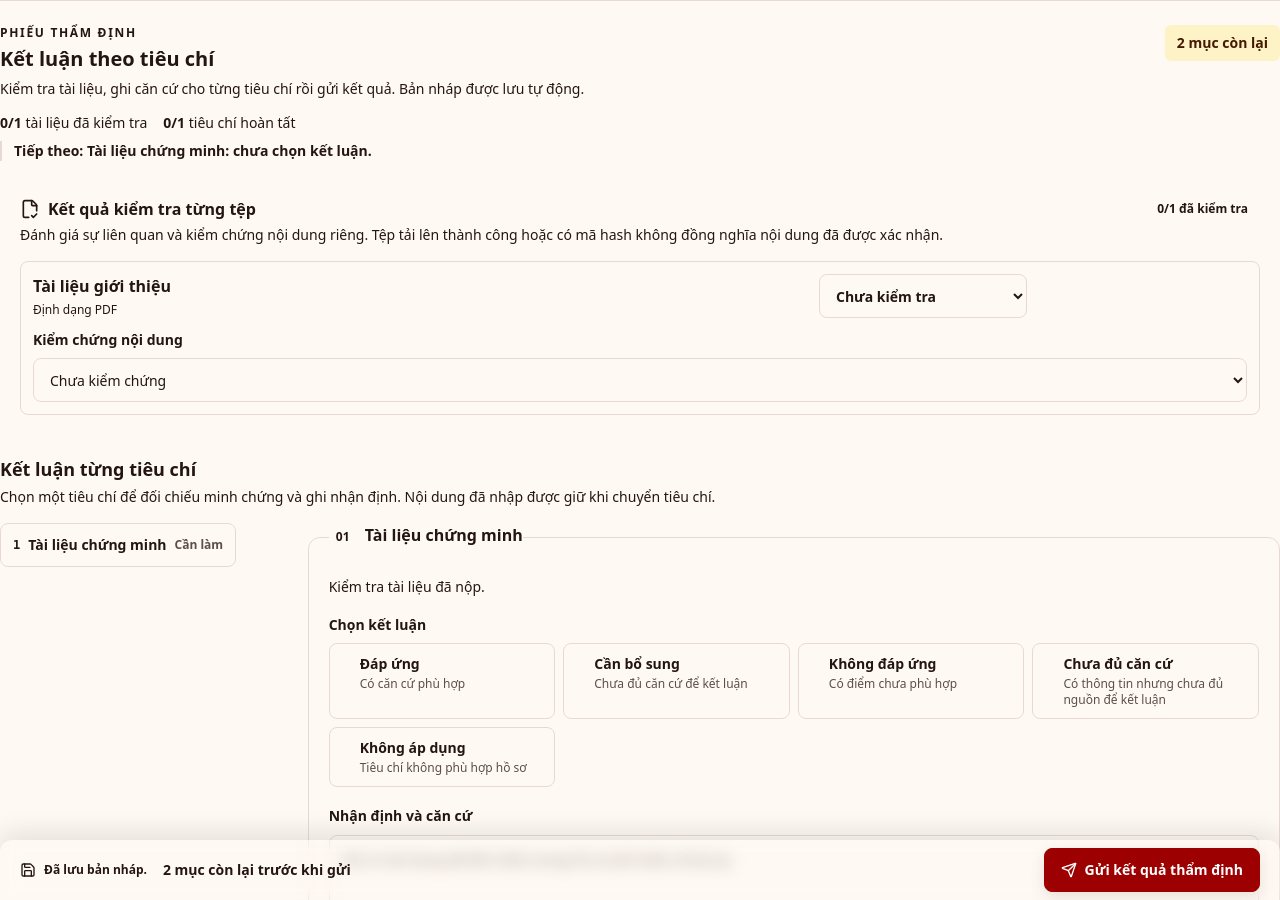
Scenario: FiveTScorecard › derives a supplement result from criterion conclusions
Select "Phù hợp" in the dropdown named "Kết quả kiểm tra Tài liệu giới thiệu" at (923, 296), box [819, 274, 1027, 318]
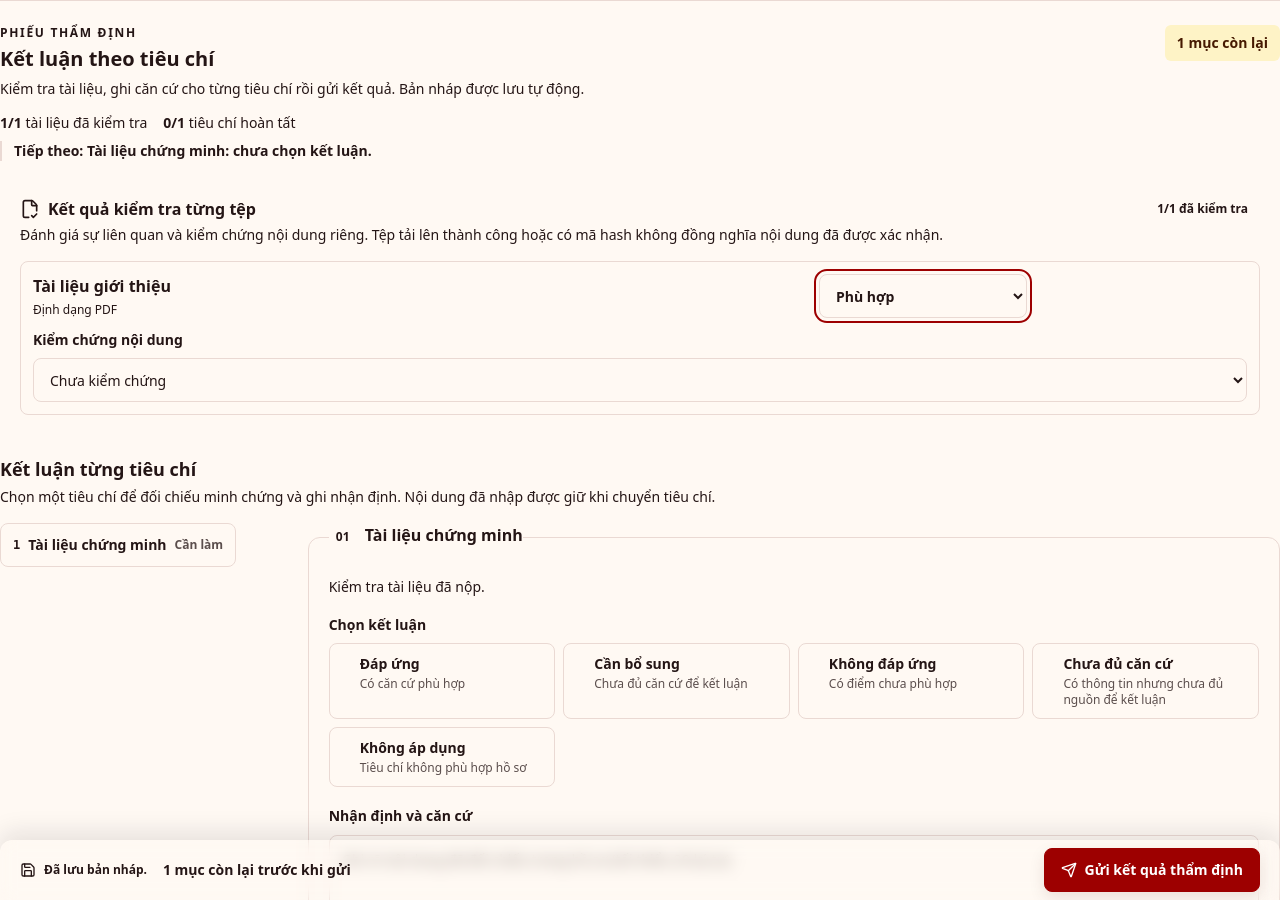
Click the radio button with aria-label "Tài liệu chứng minh: Cần bổ sung".
click(677, 681)  # box [563, 643, 790, 719]
(page scrolled)
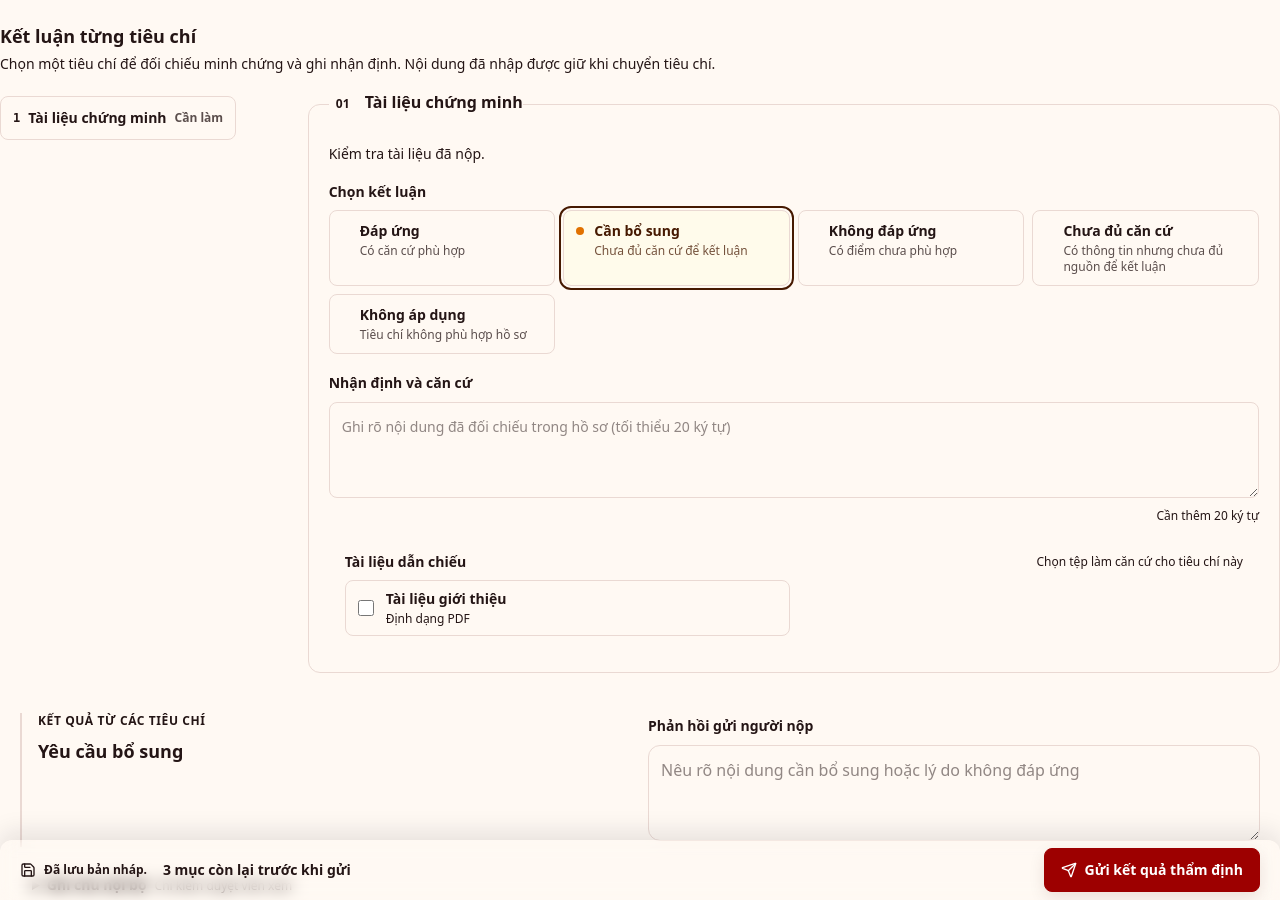
Type "Tài liệu cần bổ sung ngày phát hành để có thể đối chiếu." into the text box named "Nhận định Tài liệu chứng minh".
click(794, 450); type("Tài liệu cần bổ sung ngày phát hành để có thể đối chiếu.")  # box [329, 402, 1259, 498]
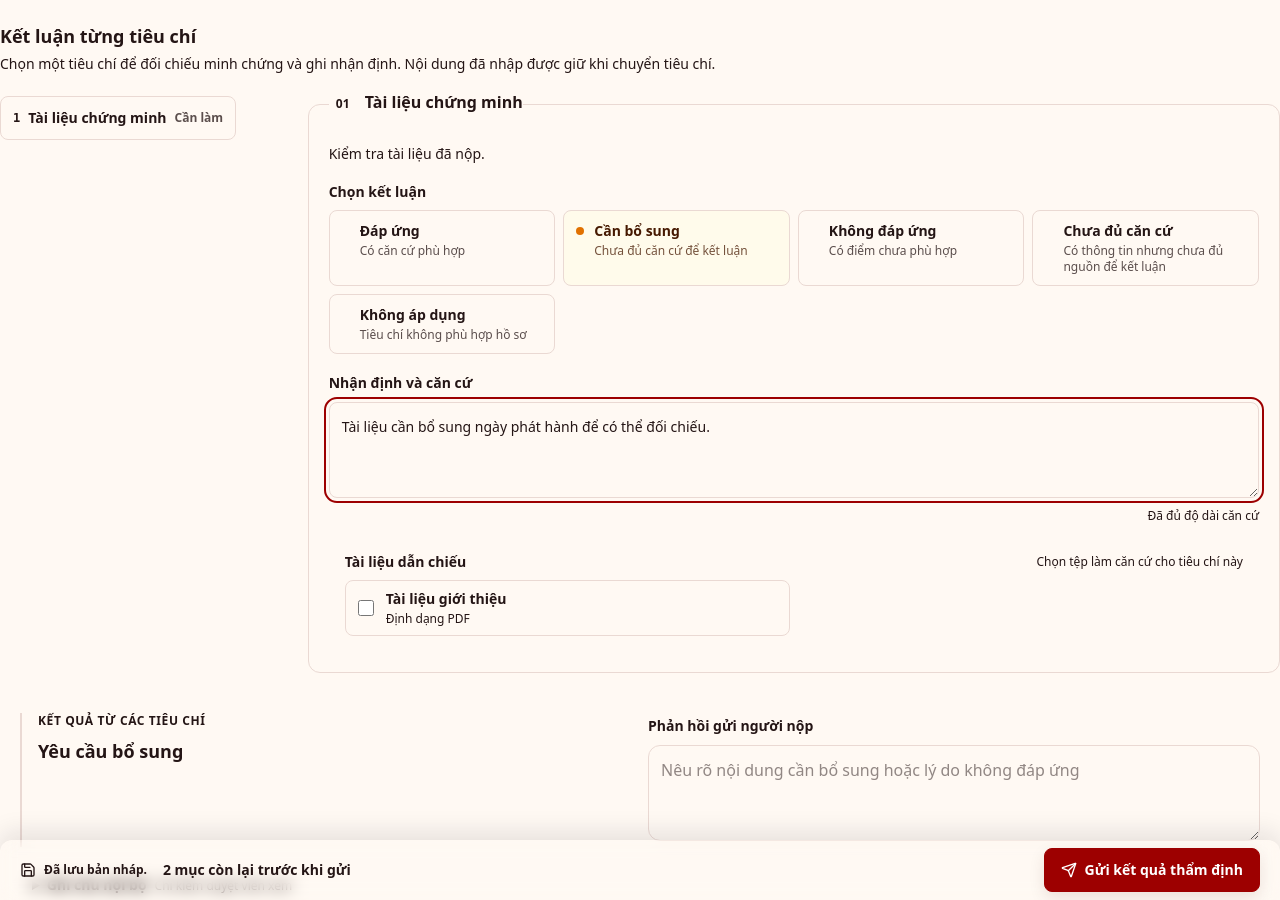
Click the checkbox.
click(366, 608)  # box [358, 600, 374, 616]
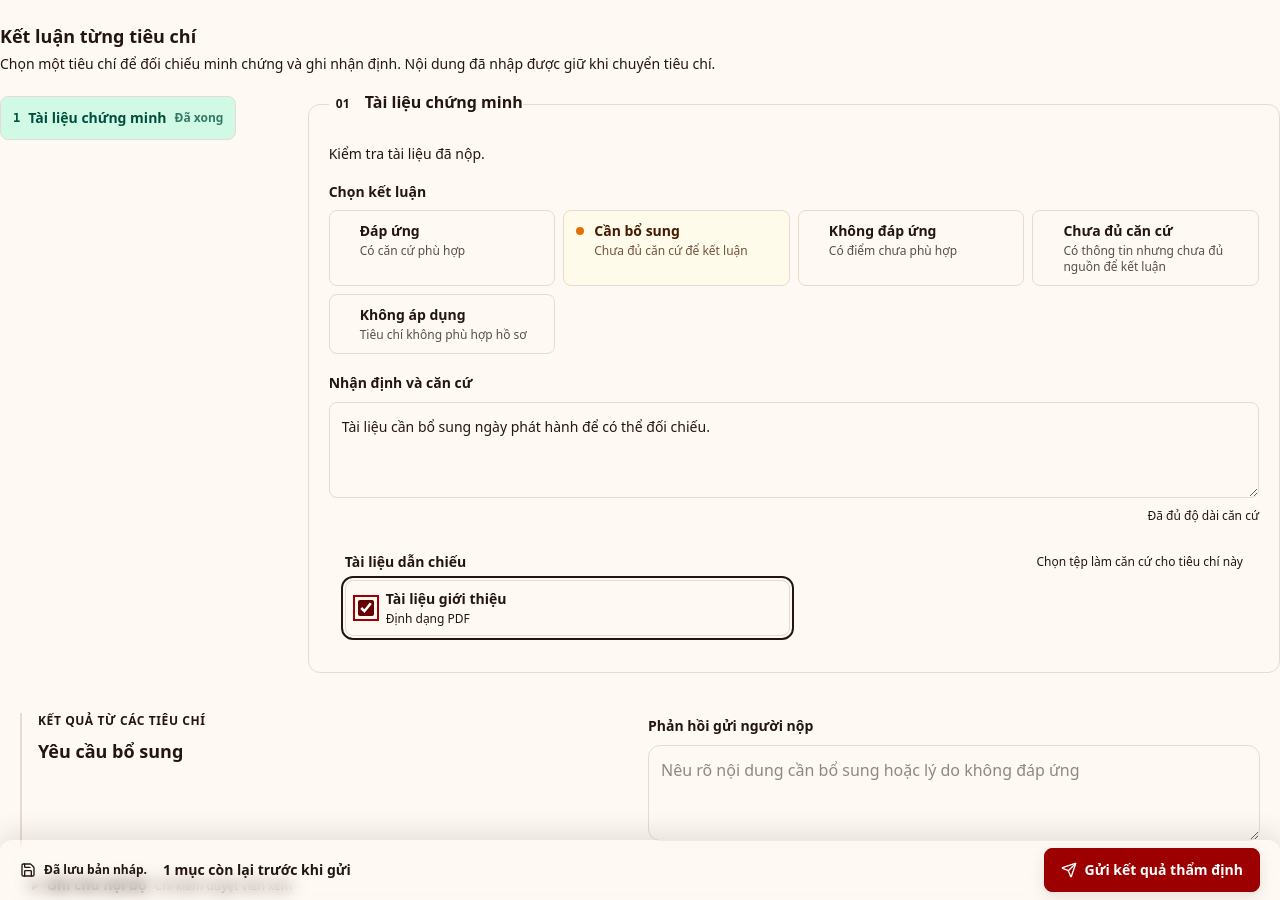
Type "Vui lòng bổ sung ngày phát hành của tài liệu." into the text box labelled "Phản hồi gửi người nộp".
click(954, 793); type("Vui lòng bổ sung ngày phát hành của tài liệu.")  # box [648, 745, 1260, 841]
(page scrolled)
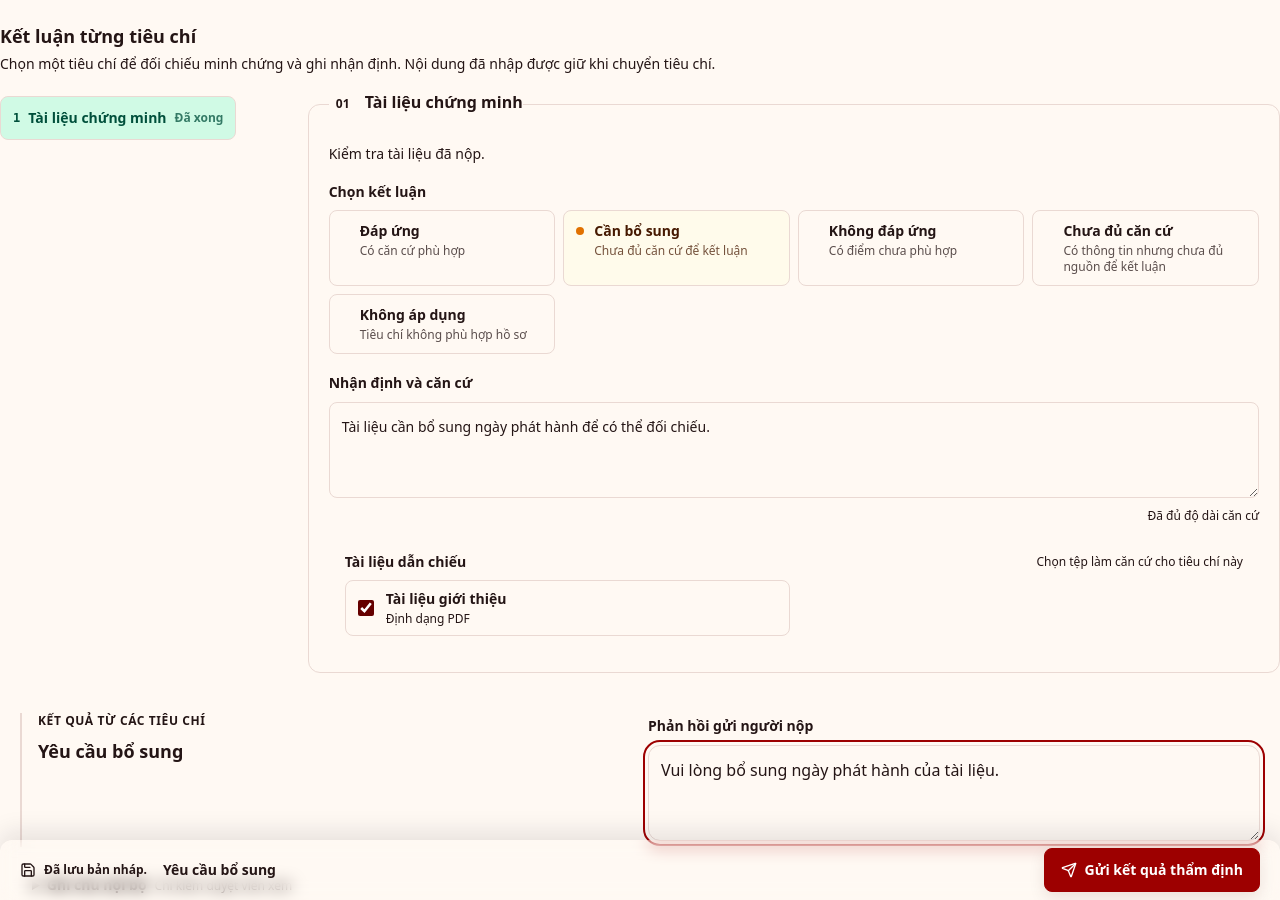
Click the button "Gửi kết quả thẩm định".
click(1152, 870)  # box [1044, 848, 1260, 892]
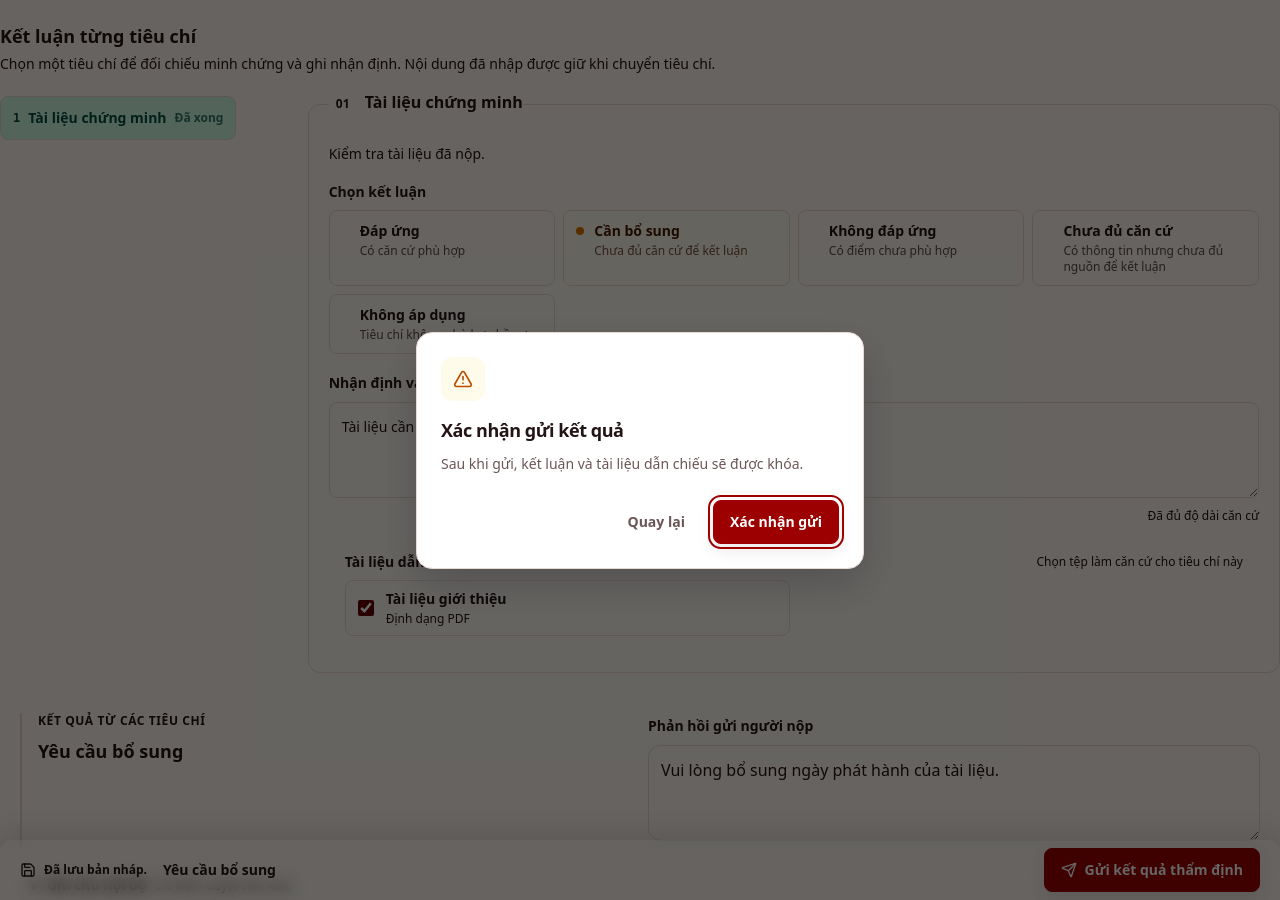
Now the heading "Xác nhận gửi kết quả" is shown, box [441, 418, 624, 442]
